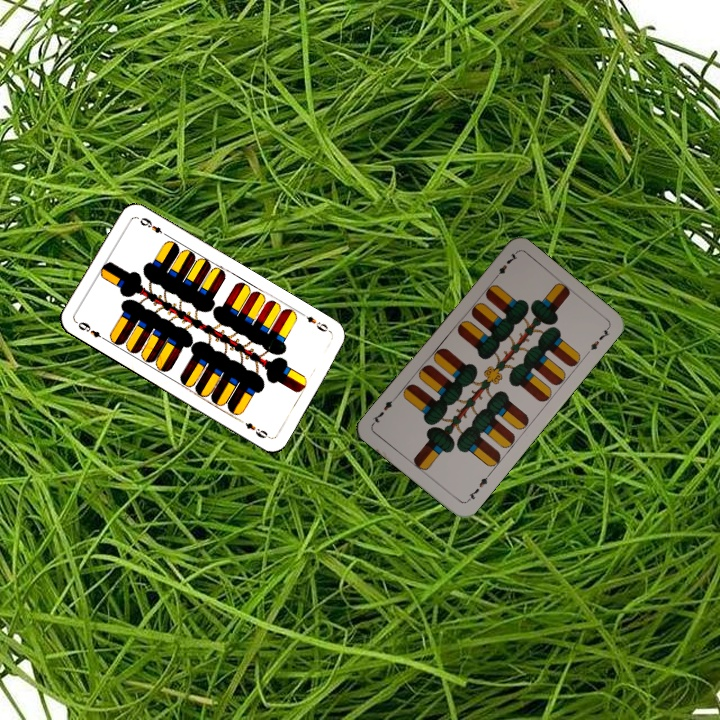E7: (462, 470, 493, 505), (489, 249, 520, 283)
E9: (297, 309, 334, 335), (74, 318, 109, 344)
